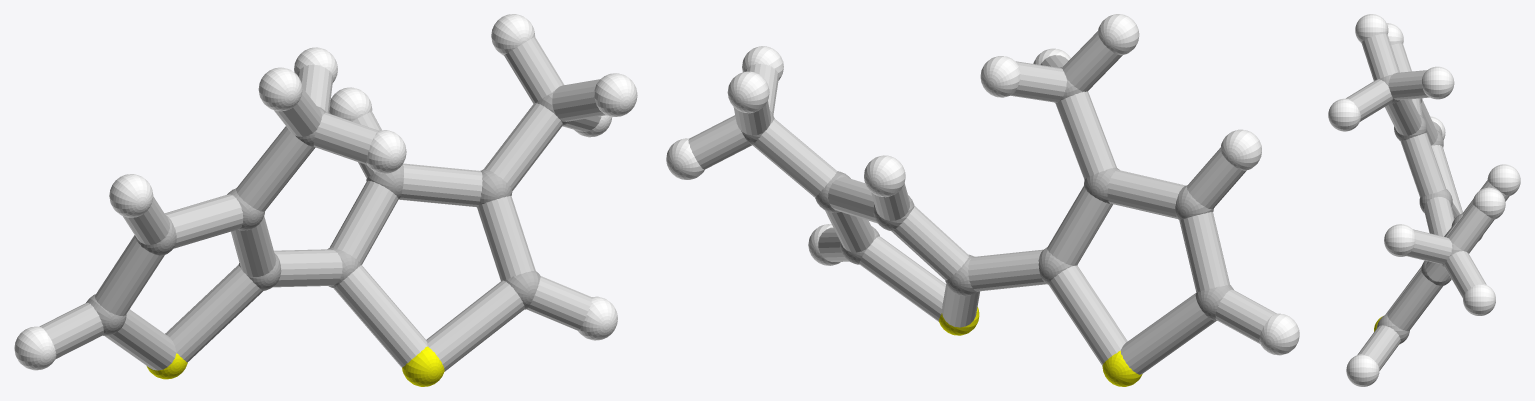
Rendered from Methylthiophene_Phi_30_Theta_130_Methylthiophene.glb.
3 renders of one model, left to right at view 1: azimuth 30°, elevation 25°; view 2: azimuth 150°, elevation 25°; view 3: azimuth 270°, elevation 25°, orthographic. The views are drawn at different scales.
Visible parts, largest first — view 1: grp7965, grp3621, grp1, grp7241; view 2: grp7965, grp3621, grp1, grp7241; view 3: grp7965, grp3621, grp1.
Boxes of the visible parts, x1=… form: grp7965: x1=39, y1=37, x2=606, y2=371; grp3621: x1=14, y1=14, x2=637, y2=370; grp1: x1=86, y1=91, x2=569, y2=335; grp7241: x1=146, y1=346, x2=444, y2=386; grp7965: x1=688, y1=31, x2=1276, y2=374; grp3621: x1=666, y1=14, x2=1299, y2=355; grp1: x1=741, y1=67, x2=1233, y2=320; grp7241: x1=939, y1=307, x2=1142, y2=386; grp7965: x1=1346, y1=34, x2=1509, y2=370; grp3621: x1=1328, y1=14, x2=1520, y2=386; grp1: x1=1377, y1=74, x2=1482, y2=343.
Size of the model in its own units: 9.85 by 5.45 by 3.48.
